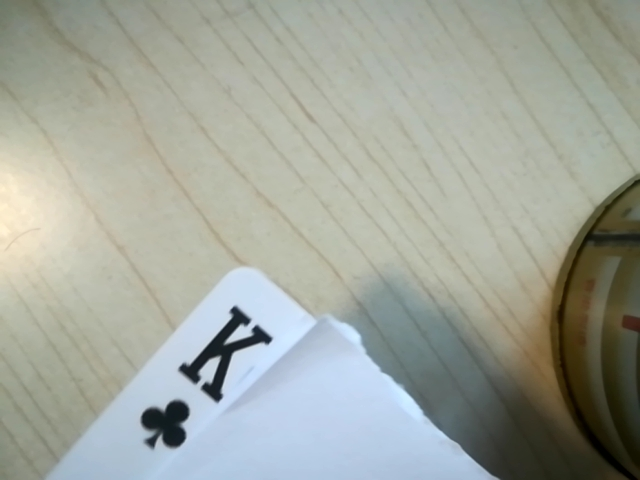mh k: (128, 298, 288, 460)
